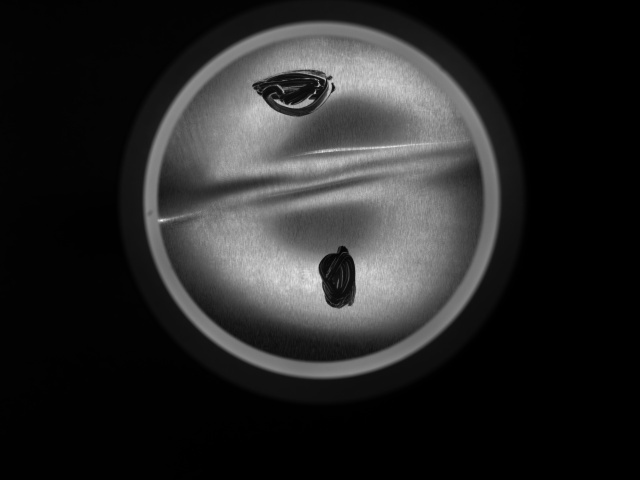zang_wu: (251, 66, 340, 122), (316, 243, 363, 311)
zhe_zhou: (199, 70, 447, 334)
